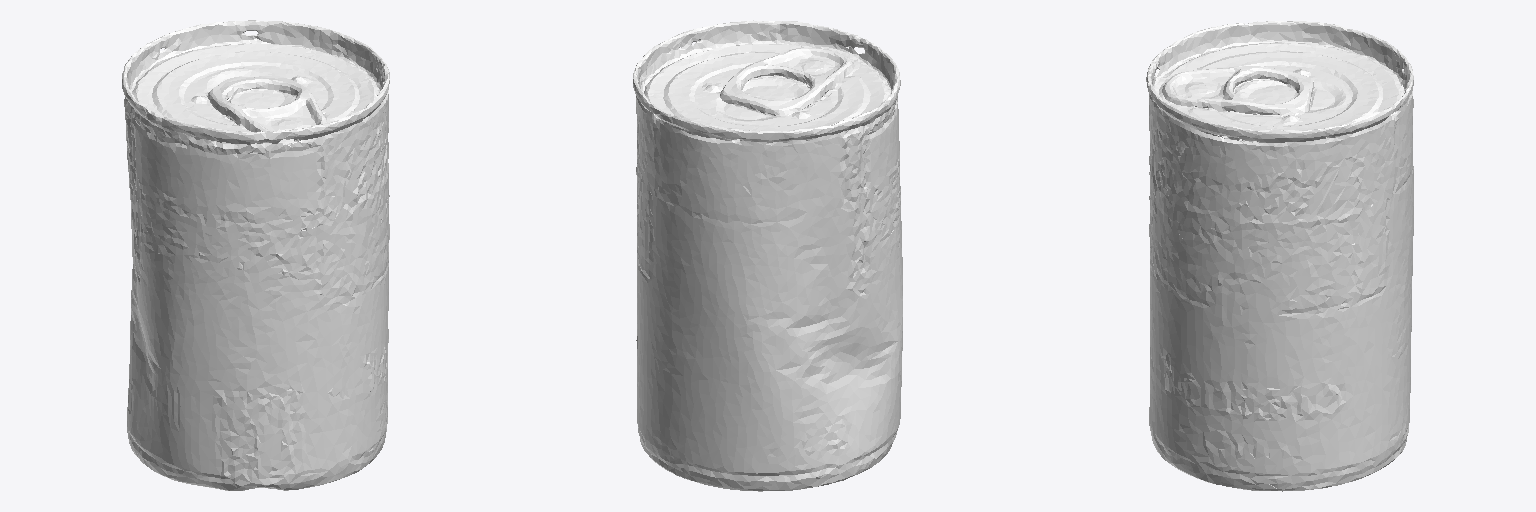
robot.urdf — tomato_soup_can:
<robot name="tomato_soup_can">
    <link name="base_link">
        <visual>
            <origin xyz="-0.0 0.0 0.0" rpy="0.0 0.0 0.0" />
            <geometry>
                <mesh filename="tomato_soup_can/textured.obj" scale="1 1 1" />
            </geometry>
            <material name="texture">
                <color rgba="1.0 1.0 1.0 1.0" />
            </material>
        </visual>
        <collision>
            <origin xyz="-0.0 0.0 0.0" rpy="0.0 0.0 0.0" />
            <geometry>
                <mesh filename="tomato_soup_can/textured_coacd_0.stl" scale="1 1 1" />
            </geometry>
        </collision>
        <collision>
            <origin xyz="-0.0 0.0 0.0" rpy="0.0 0.0 0.0" />
            <geometry>
                <mesh filename="tomato_soup_can/textured_coacd_1.stl" scale="1 1 1" />
            </geometry>
        </collision>
        <collision>
            <origin xyz="-0.0 0.0 0.0" rpy="0.0 0.0 0.0" />
            <geometry>
                <mesh filename="tomato_soup_can/textured_coacd_2.stl" scale="1 1 1" />
            </geometry>
        </collision>
        <collision>
            <origin xyz="-0.0 0.0 0.0" rpy="0.0 0.0 0.0" />
            <geometry>
                <mesh filename="tomato_soup_can/textured_coacd_3.stl" scale="1 1 1" />
            </geometry>
        </collision>
        <collision>
            <origin xyz="-0.0 0.0 0.0" rpy="0.0 0.0 0.0" />
            <geometry>
                <mesh filename="tomato_soup_can/textured_coacd_4.stl" scale="1 1 1" />
            </geometry>
        </collision>
        <inertial>
            <mass value="0.349" />
            <inertia ixx="1e-3" ixy="0.0" ixz="0.0" iyy="1e-3" iyz="0.0" izz="1e-3" />
        </inertial>
    </link>
</robot>

--- Render facts (derived) ---
The picture shows the robot from 3 angles, left to right: view 1: azimuth 30°, elevation 25°; view 2: azimuth 150°, elevation 25°; view 3: azimuth 270°, elevation 25°; orthographic projection.
Robot: tomato_soup_can — 1 links, 0 joints (none); root link base_link; default pose: all joints at 0.
Links seen in each view (by area): view 1: base_link; view 2: base_link; view 3: base_link.
Boxes of the visible links, left/top/right/bottom form: base_link: left=122, top=20, right=389, bottom=490; base_link: left=633, top=20, right=902, bottom=491; base_link: left=1146, top=21, right=1413, bottom=491.
Bounding box of the posed robot: 0.0675 × 0.0676 × 0.1018 m (x, y, z).
Meshes: 1 distinct files referenced, 1 mesh visuals loaded (1 OBJ).
